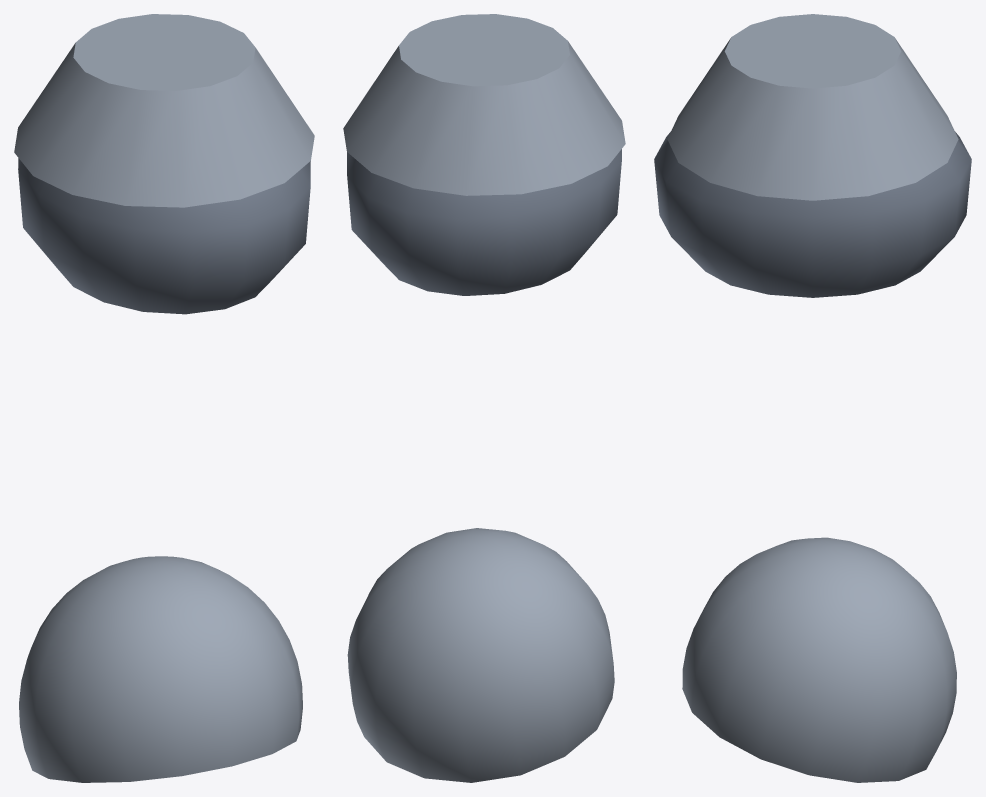
Rendered from armor_look4.glb.
The picture shows the model from 3 angles, left to right: view 1: azimuth 30°, elevation 25°; view 2: azimuth 150°, elevation 25°; view 3: azimuth 270°, elevation 25°; orthographic projection. The views are drawn at different scales.
Parts seen in each view (by area): view 1: m2_ow85_, m0_ow85_, m1_ow85_; view 2: m2_ow85_, m0_ow85_, m1_ow85_; view 3: m2_ow85_, m0_ow85_, m1_ow85_.
Boxes of the visible parts, <box> form: m2_ow85_: <box>19,556,302,782</box>; m0_ow85_: <box>14,14,314,207</box>; m1_ow85_: <box>18,158,310,314</box>; m2_ow85_: <box>347,528,614,782</box>; m0_ow85_: <box>343,14,625,195</box>; m1_ow85_: <box>347,149,621,295</box>; m2_ow85_: <box>682,537,956,782</box>; m0_ow85_: <box>667,14,958,200</box>; m1_ow85_: <box>654,131,971,297</box>.
Size of the model in its own units: 0.66 by 1.75 by 0.72.
